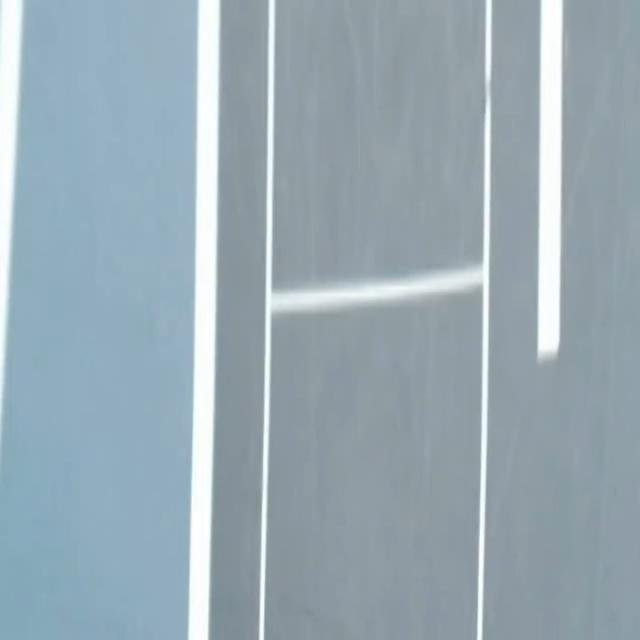center: (537, 0, 562, 361)
left: (188, 0, 220, 639)
